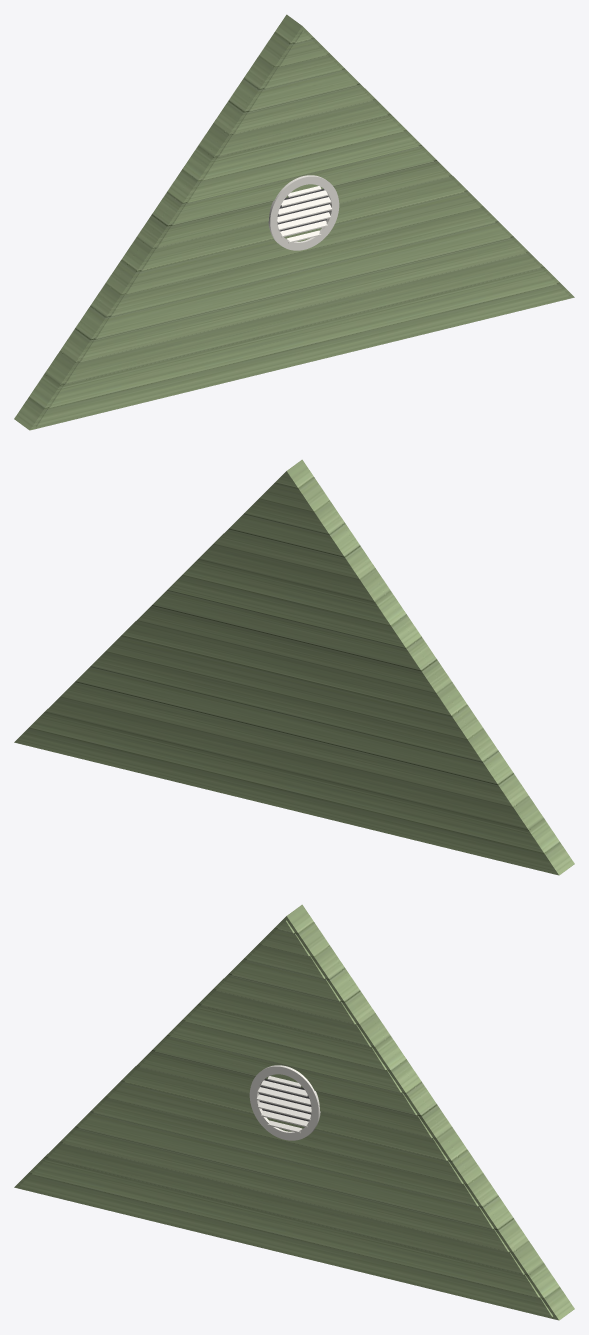
Rendered from gable_back_b.glb.
3 views of the same model, one above another, from view 1: azimuth 30°, elevation 25°; view 2: azimuth 150°, elevation 25°; view 3: azimuth 330°, elevation 25° (orthographic).
Parts seen in each view (by area): view 1: gable_back_b_siding_b, gable_back_b_trim; view 2: gable_back_b_siding_b; view 3: gable_back_b_siding_b, gable_back_b_trim.
Part boxes in pixels (x1=…): gable_back_b_siding_b: x1=14, y1=14, x2=574, y2=430; gable_back_b_trim: x1=268, y1=175, x2=339, y2=250; gable_back_b_siding_b: x1=14, y1=459, x2=574, y2=875; gable_back_b_siding_b: x1=14, y1=904, x2=574, y2=1320; gable_back_b_trim: x1=249, y1=1065, x2=320, y2=1140.
Size of the model in its own units: 6 by 3.56 by 0.35.
3 materials, 1 textured.
